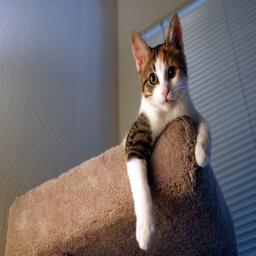catnose: (159, 86, 171, 96)
